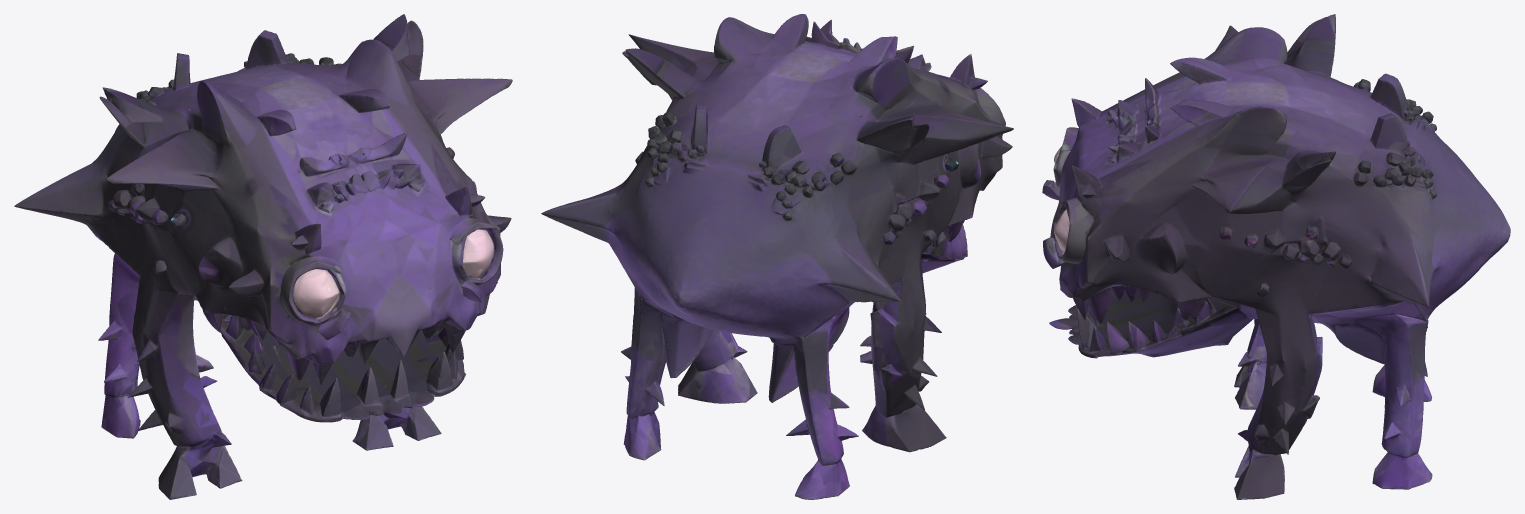
3 renders of one model, left to right at view 1: azimuth 30°, elevation 25°; view 2: azimuth 150°, elevation 25°; view 3: azimuth 270°, elevation 25°, orthographic. The views are drawn at different scales.
Visible parts, largest first — view 1: Colossal_Dawn_1014164217_texture; view 2: Colossal_Dawn_1014164217_texture; view 3: Colossal_Dawn_1014164217_texture.
Boxes of the visible parts, x1,y1,x2,y2 form: Colossal_Dawn_1014164217_texture: (14,14,512,499); Colossal_Dawn_1014164217_texture: (541,14,1013,499); Colossal_Dawn_1014164217_texture: (1042,14,1510,499).
Bounding box in the file's own units: 1.78 × 1.66 × 1.89.
Materials: 1 (1 with a texture image).
